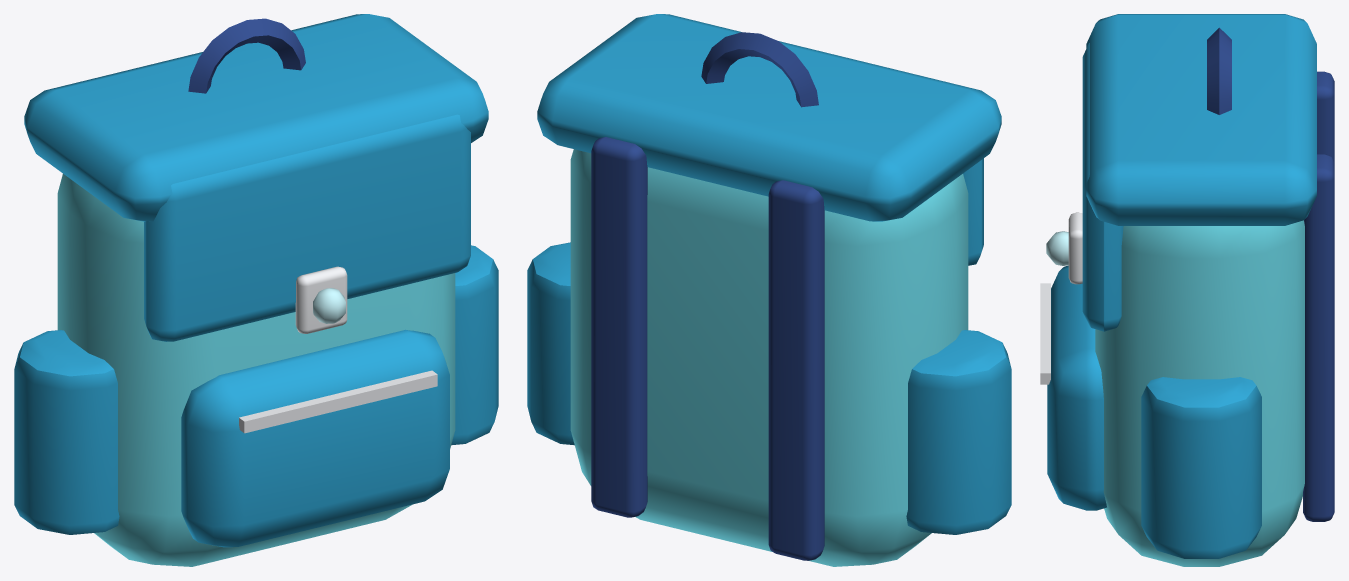
Rendered from DiamondBackpack.fbx.
The picture shows the model from 3 angles, left to right: view 1: azimuth 30°, elevation 25°; view 2: azimuth 150°, elevation 25°; view 3: azimuth 270°, elevation 25°; orthographic projection. The views are drawn at different scales.
Visible parts, largest first — view 1: DiamondBackpack; view 2: DiamondBackpack; view 3: DiamondBackpack.
Boxes of the visible parts, <box> form: DiamondBackpack: <box>14,14,498,566</box>; DiamondBackpack: <box>527,14,1011,566</box>; DiamondBackpack: <box>1040,14,1334,566</box>.
Size of the model in its own units: 2.89 by 2.99 by 1.66.
1 material, 1 textured.
